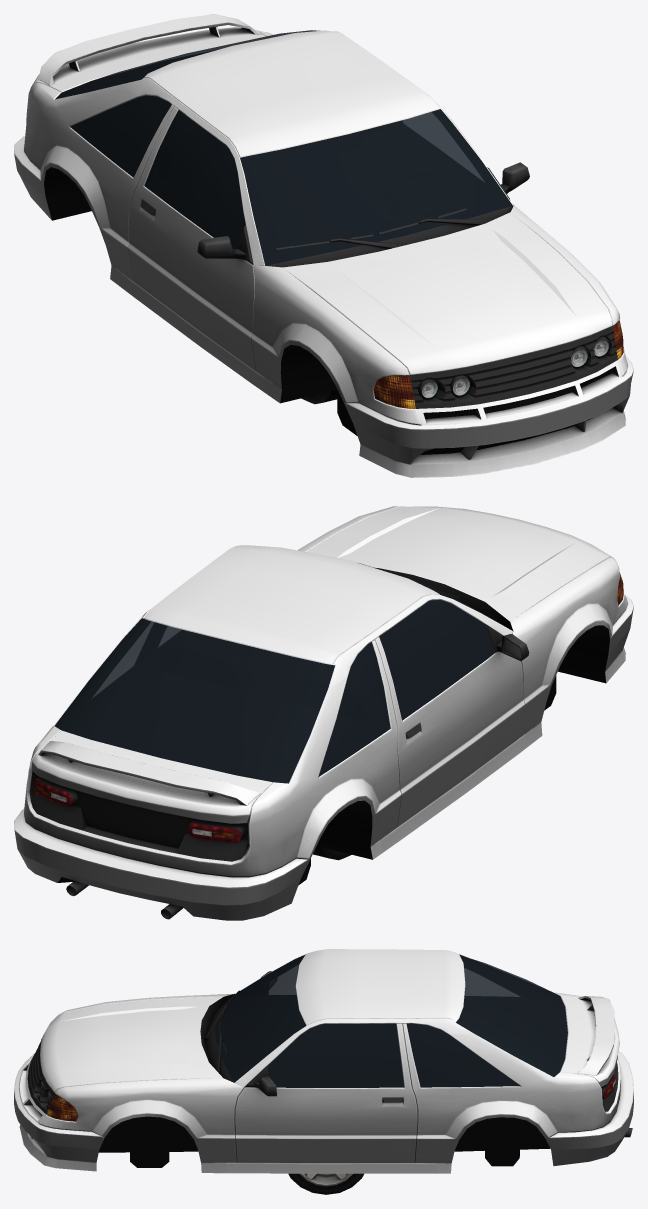
The model's file is cabrio.glb.
The picture shows the model from 3 angles, top to bottom: view 1: azimuth 30°, elevation 25°; view 2: azimuth 150°, elevation 25°; view 3: azimuth 270°, elevation 25°; orthographic projection. The views are drawn at different scales.
Parts seen in each view (by area): view 1: paint, glass, head, tail; view 2: paint, glass, tail; view 3: paint, glass, wheel0, tail.
Boxes of the visible parts, bbox=[...] form: paint: bbox=[14, 14, 633, 477]; glass: bbox=[55, 30, 512, 265]; head: bbox=[394, 321, 622, 407]; tail: bbox=[373, 320, 623, 408]; paint: bbox=[14, 506, 633, 920]; glass: bbox=[54, 562, 507, 783]; tail: bbox=[33, 572, 623, 842]; paint: bbox=[14, 949, 633, 1173]; glass: bbox=[214, 954, 567, 1087]; wheel0: bbox=[288, 1173, 363, 1194]; tail: bbox=[46, 1075, 615, 1121].
Size of the model in its own units: 1.88 by 1.58 by 4.24.
5 materials, 4 textured.
